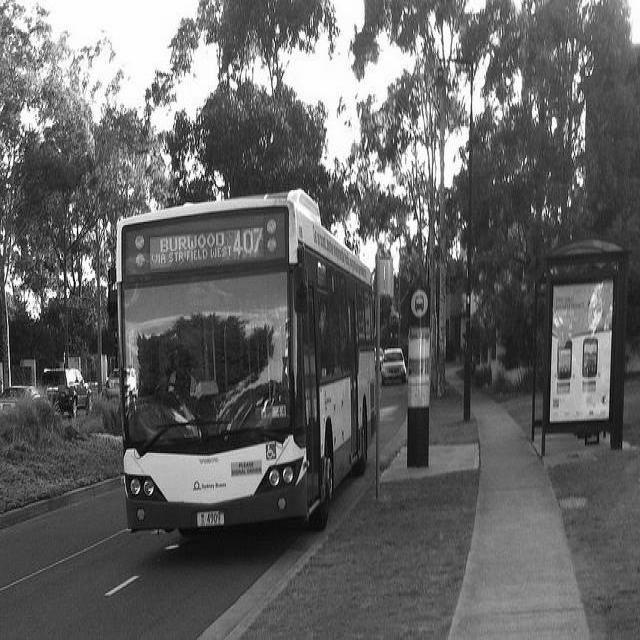vehicle: (117, 190, 375, 541), (36, 368, 92, 422), (40, 368, 93, 418), (0, 385, 37, 415), (381, 347, 406, 387), (104, 370, 118, 400)
